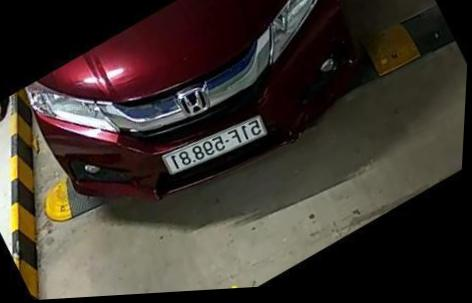License_Plate: (156, 112, 270, 179)
